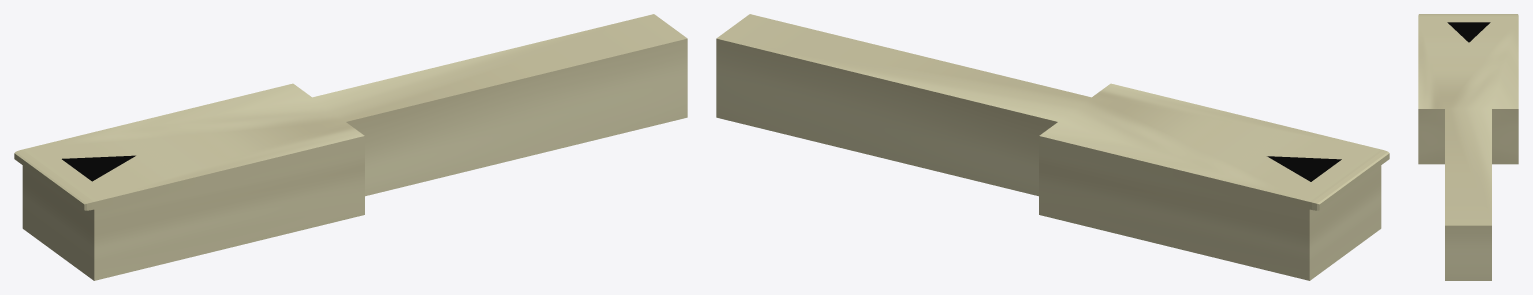
The model's file is D_key.obj.
3 views of the same model, side by side, from view 1: azimuth 30°, elevation 25°; view 2: azimuth 150°, elevation 25°; view 3: azimuth 270°, elevation 25° (orthographic). The views are drawn at different scales.
Visible parts, largest first — view 1: D_key; view 2: D_key; view 3: D_key.
Part boxes in pixels (x1=…): D_key: x1=14, y1=14, x2=687, y2=280; D_key: x1=716, y1=14, x2=1389, y2=280; D_key: x1=1418, y1=14, x2=1518, y2=280.
Size of what is drawn, in the model's own units: 17.27 by 2.12 by 3.45.
Materials: 2 (2 with a texture image).
